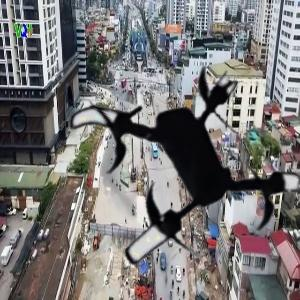drone: (55, 51, 299, 295)
